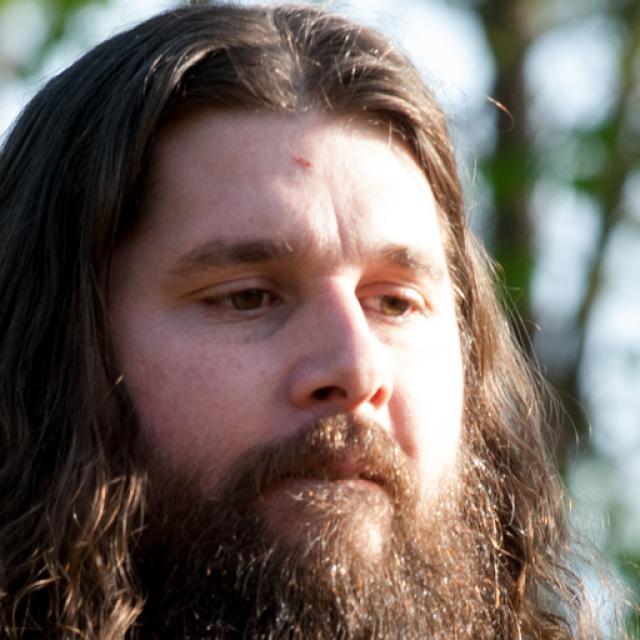Acne: (284, 141, 326, 189)
